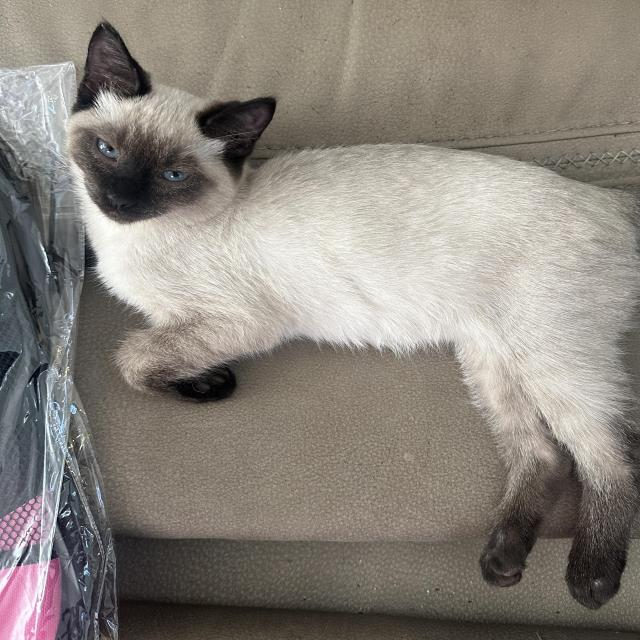siamese_cat: (59, 21, 287, 250)
